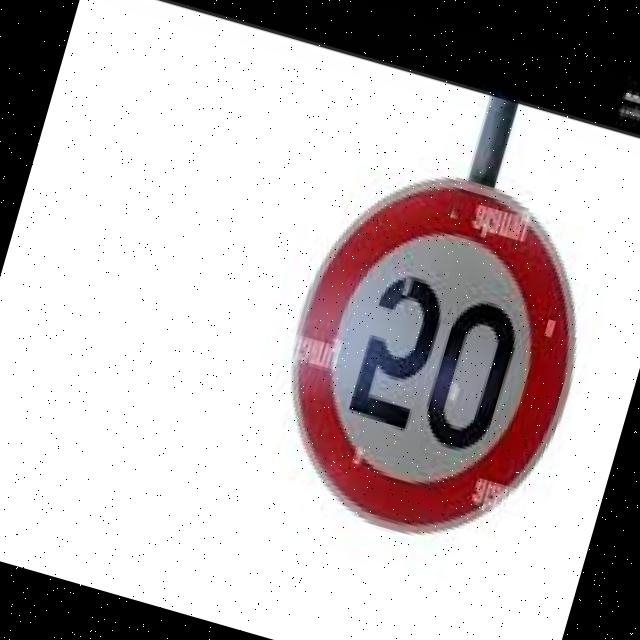speed_limit_50: (243, 141, 620, 578)
